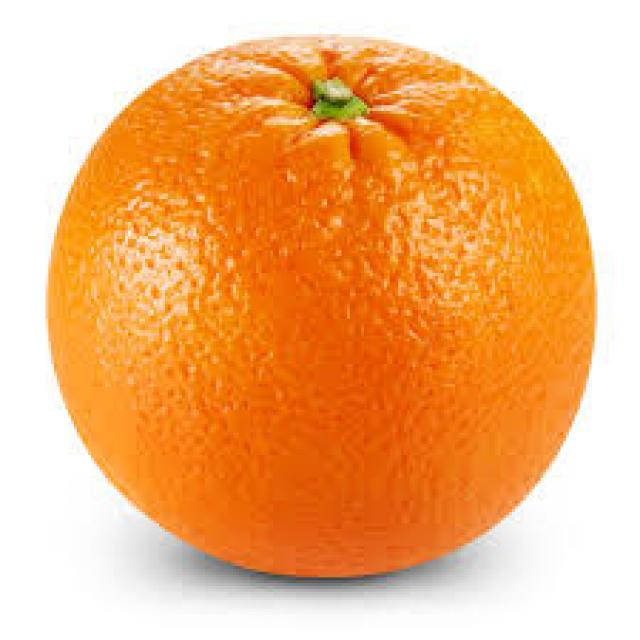orange: (43, 28, 603, 586)
